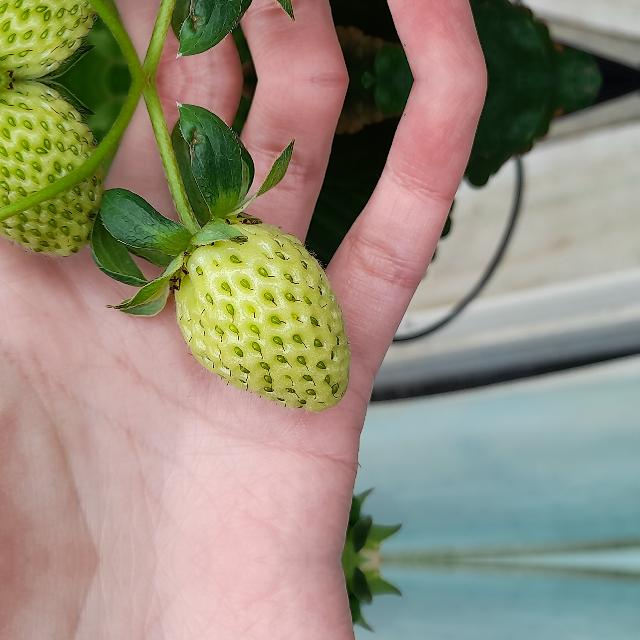Health_25: (174, 222, 350, 412), (0, 80, 100, 260), (0, 0, 100, 80)
